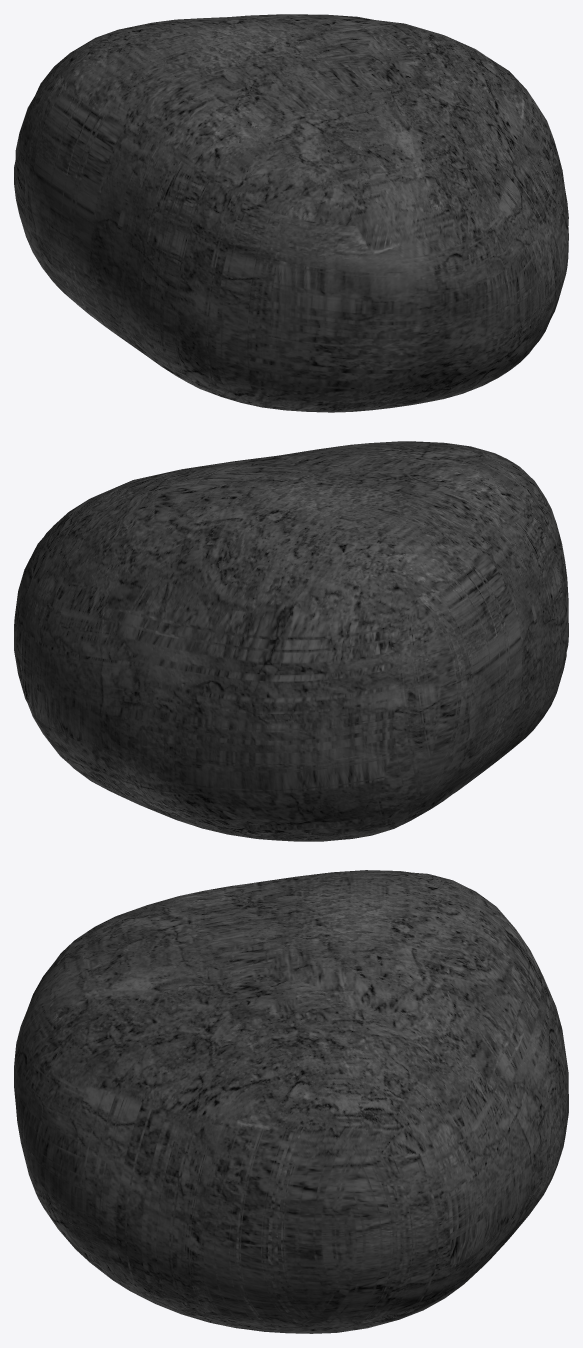
Rendered from Rock small 1.fbx.
3 views of the same model, one above another, from view 1: azimuth 30°, elevation 25°; view 2: azimuth 150°, elevation 25°; view 3: azimuth 270°, elevation 25° (orthographic). The views are drawn at different scales.
Visible parts, largest first — view 1: Rock small 1; view 2: Rock small 1; view 3: Rock small 1.
Boxes of the visible parts, left/top/right/bottom form: Rock small 1: left=14, top=14, right=568, bottom=412; Rock small 1: left=14, top=441, right=568, bottom=841; Rock small 1: left=14, top=870, right=568, bottom=1333.
Size of the model in its own units: 0.444 by 0.2906 by 0.4443.
